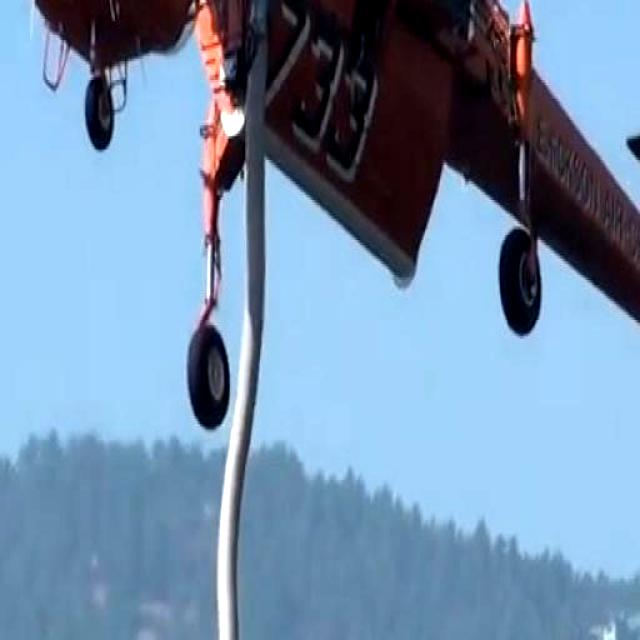drone: (0, 0, 640, 419)
